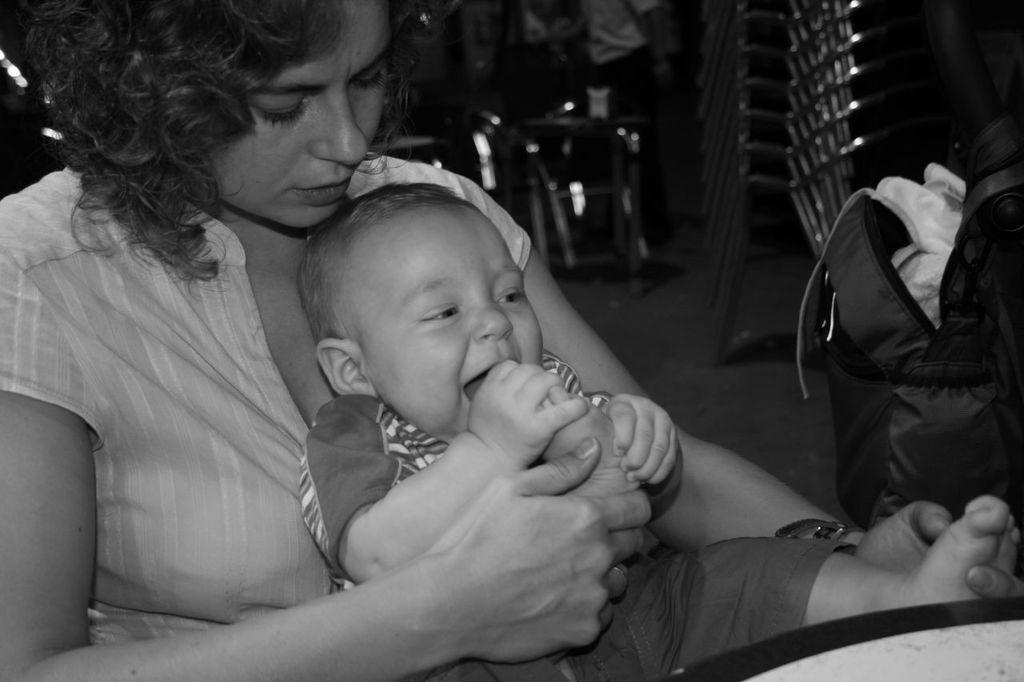Sem Máscara: (202, 0, 391, 227), (364, 211, 541, 435)
